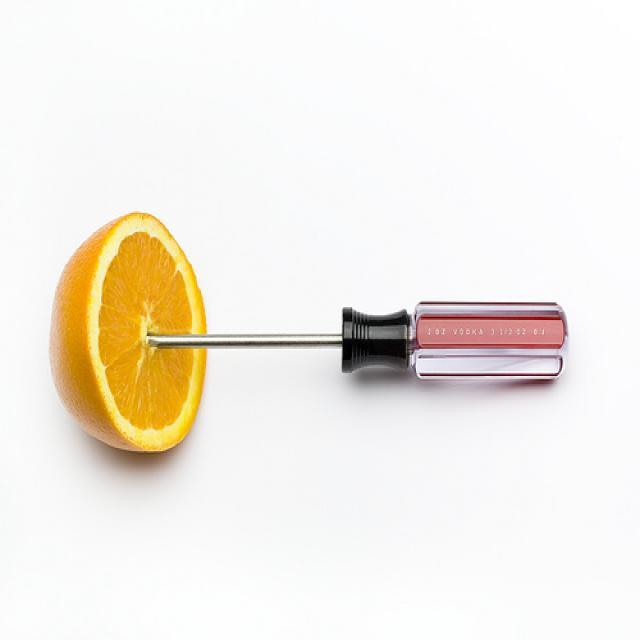screwdriver: (134, 284, 584, 412)
